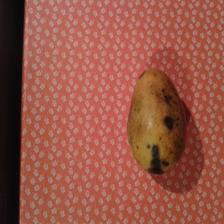Mango Semirotten: (131, 63, 187, 181)
